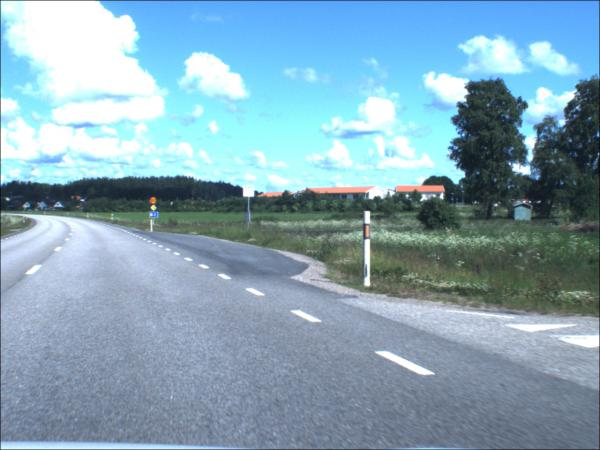80_SIGN: (151, 198, 158, 205)
PRIORITY_ROAD: (152, 206, 159, 213)
